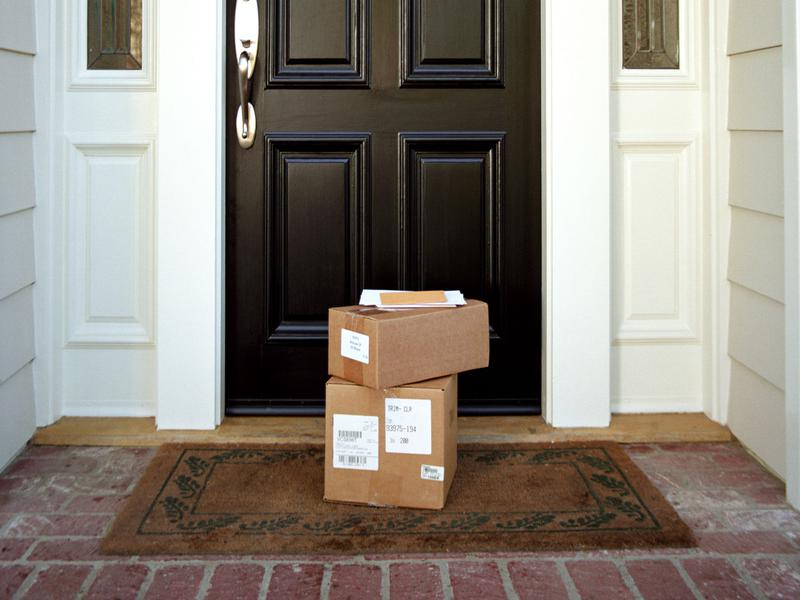package: (313, 376, 466, 513), (322, 304, 494, 386)
